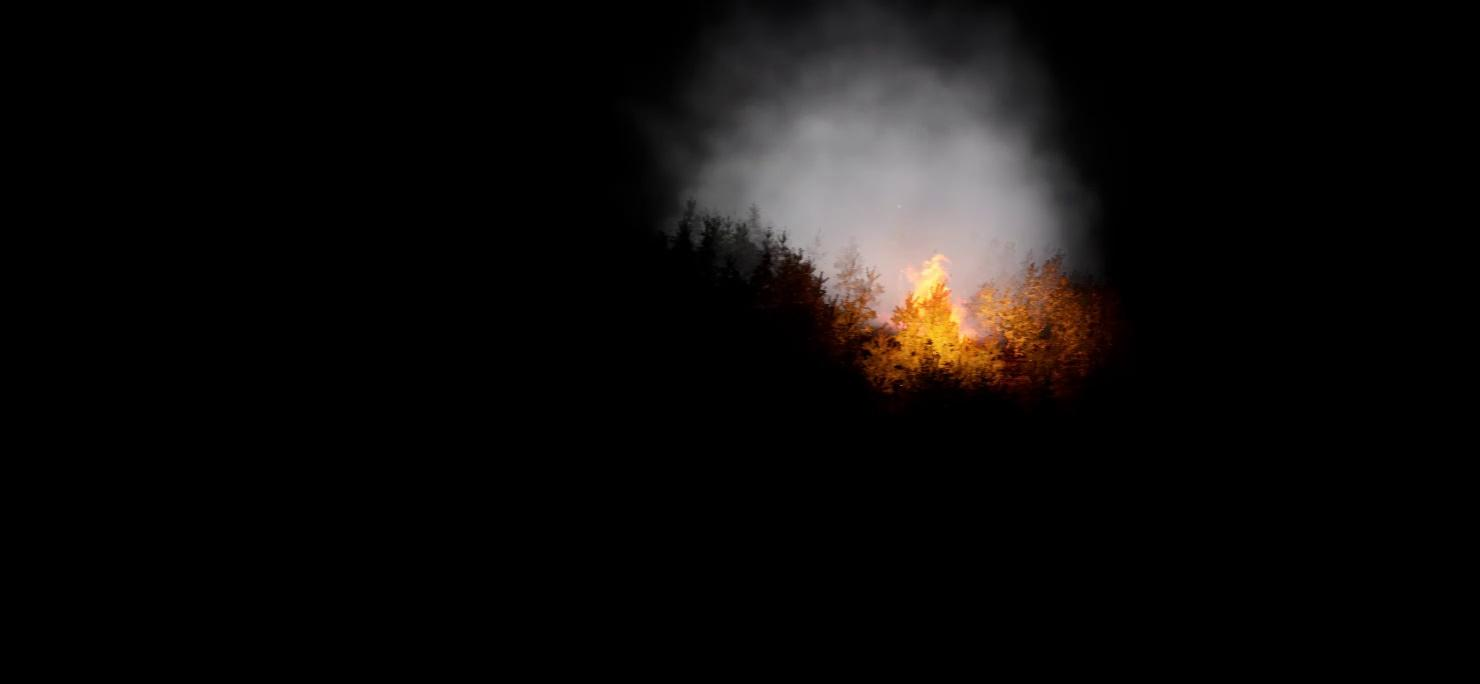fire: (900, 253, 966, 342)
smoke: (647, 0, 1109, 338)
